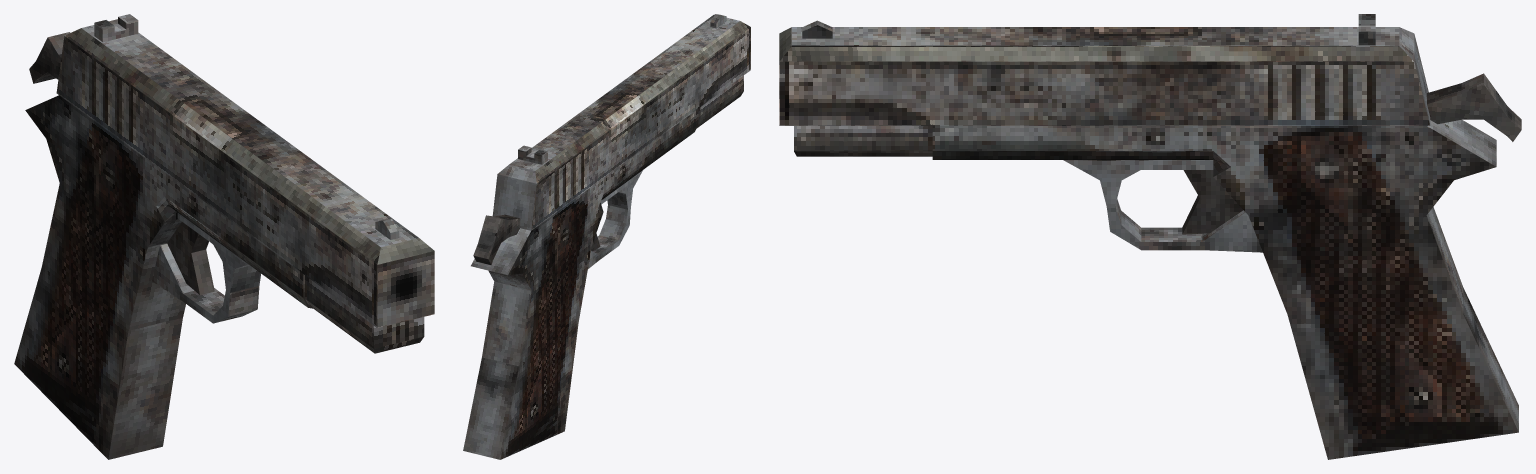
The model's file is psx_old_colt_1911.glb.
3 views of the same model, side by side, from view 1: azimuth 30°, elevation 25°; view 2: azimuth 150°, elevation 25°; view 3: azimuth 270°, elevation 25° (orthographic). The views are drawn at different scales.
Visible parts, largest first — view 1: SM_Colt1911_0; view 2: SM_Colt1911_0; view 3: SM_Colt1911_0.
Boxes of the visible parts, bbox=[...] form: SM_Colt1911_0: bbox=[14, 14, 434, 459]; SM_Colt1911_0: bbox=[463, 14, 750, 459]; SM_Colt1911_0: bbox=[779, 14, 1521, 459].
Size of the model in its own units: 0.0335 by 0.2332 by 0.3702.
1 material, 1 textured.
